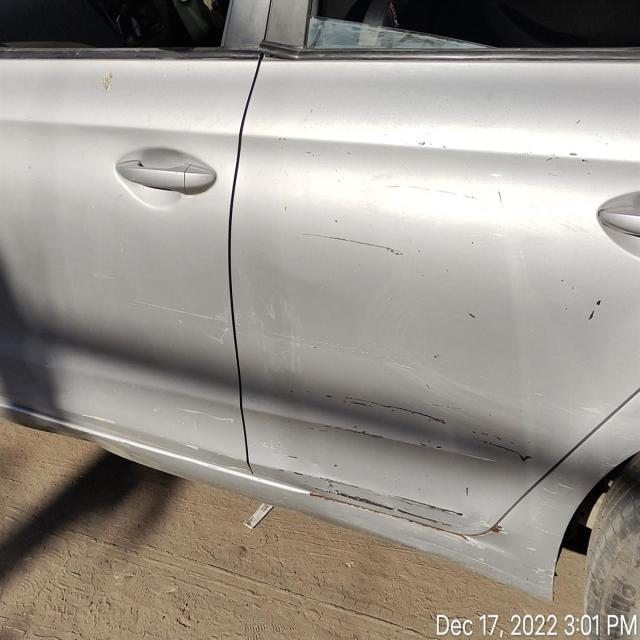damage: (280, 358, 552, 545), (279, 221, 420, 270), (538, 139, 604, 181), (581, 279, 610, 331), (407, 130, 436, 159)
